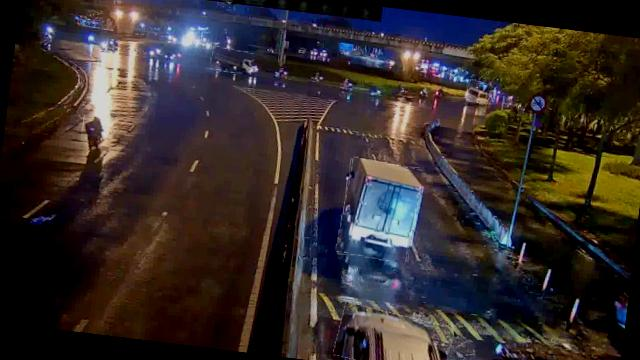Bike: (80, 111, 105, 149)
Bus: (338, 159, 420, 262), (464, 79, 492, 104)
Car: (332, 303, 453, 360)
Truck: (336, 158, 421, 263), (210, 47, 253, 74)
